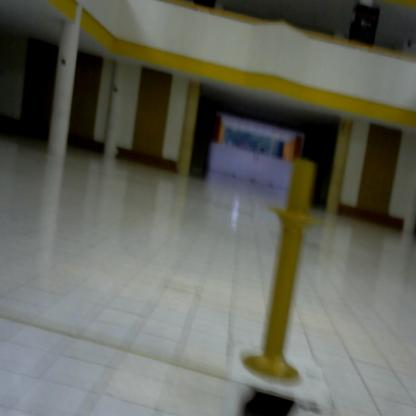pole: (235, 147, 327, 410)
